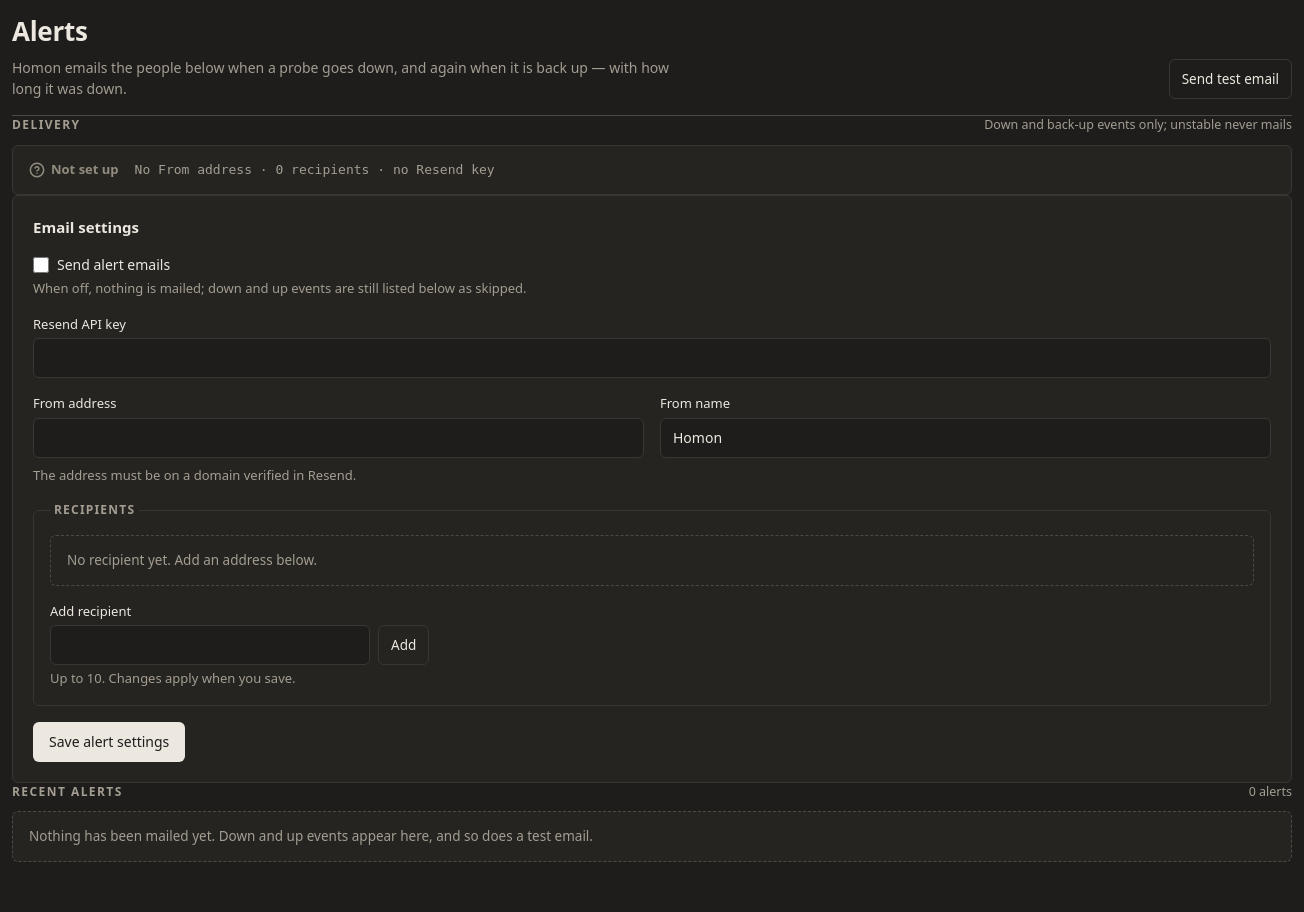
AdminAlertsPage › shows the API detail when the test email cannot be queued
Click the button "Send test email" at (1230, 79), box [1169, 59, 1292, 99]
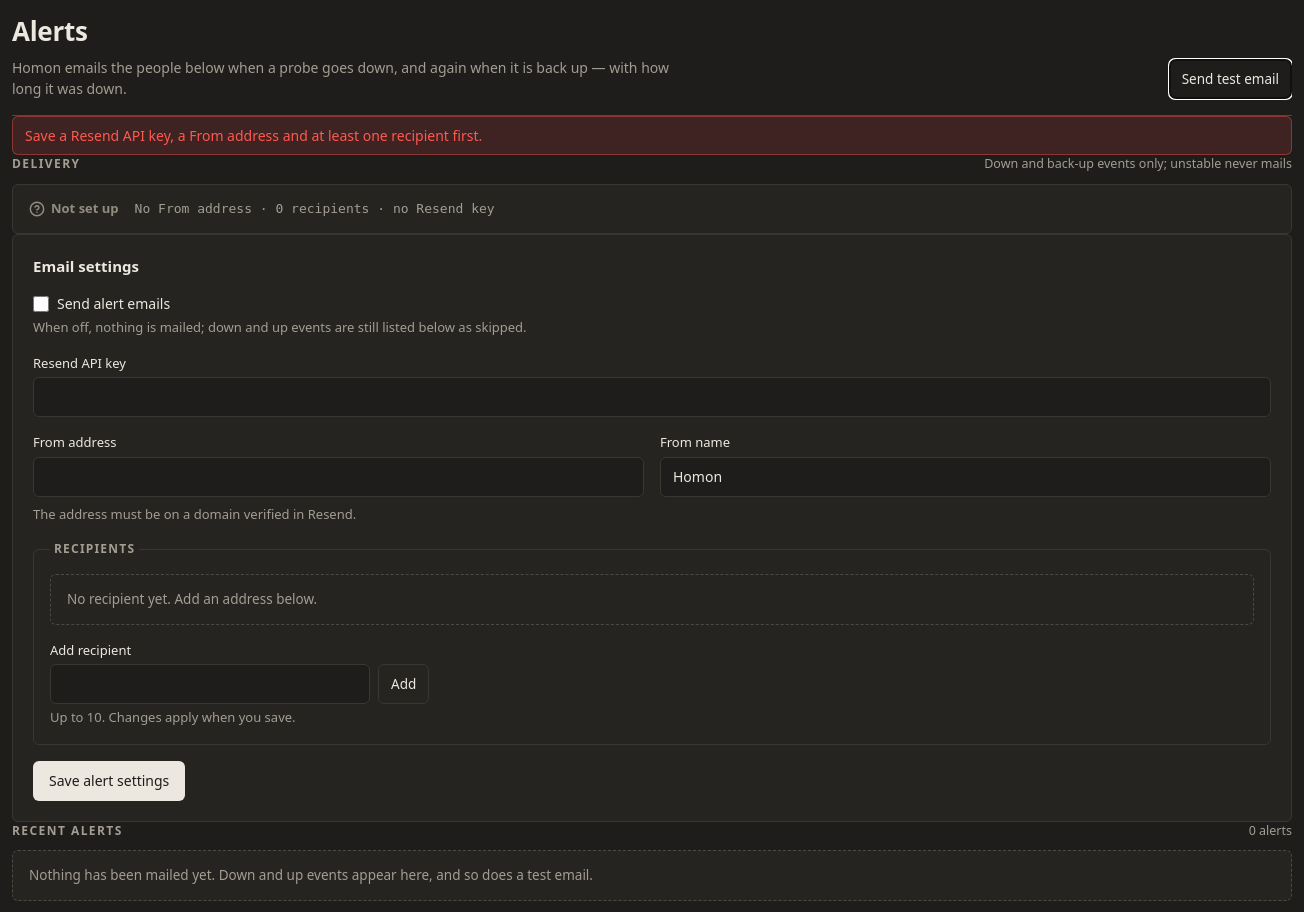
Expected: the message shows "Save a Resend API key, a From address", [25, 126, 482, 145]
